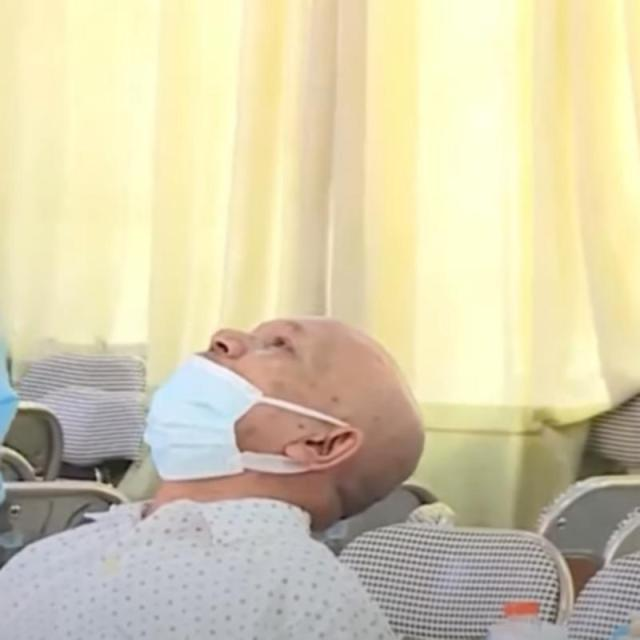hairnet: (142, 311, 307, 478)
